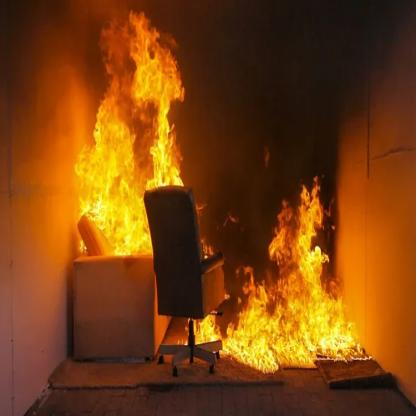fire: (207, 158, 368, 376), (63, 13, 201, 263)
